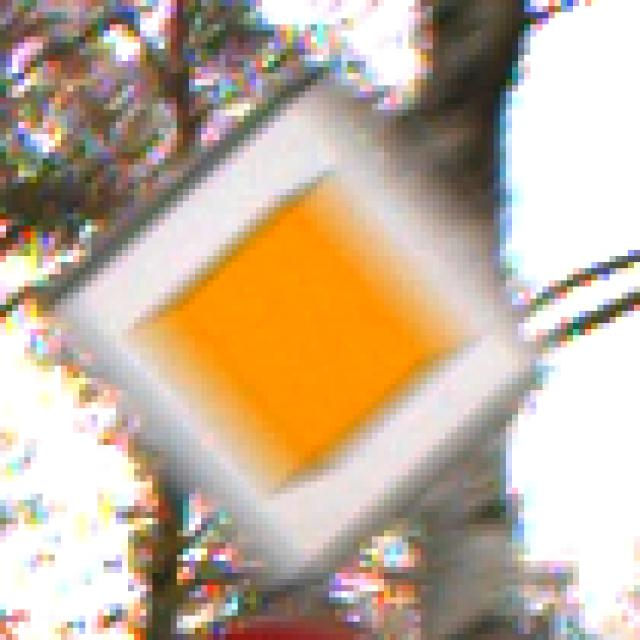Main Road: (62, 56, 580, 580)
